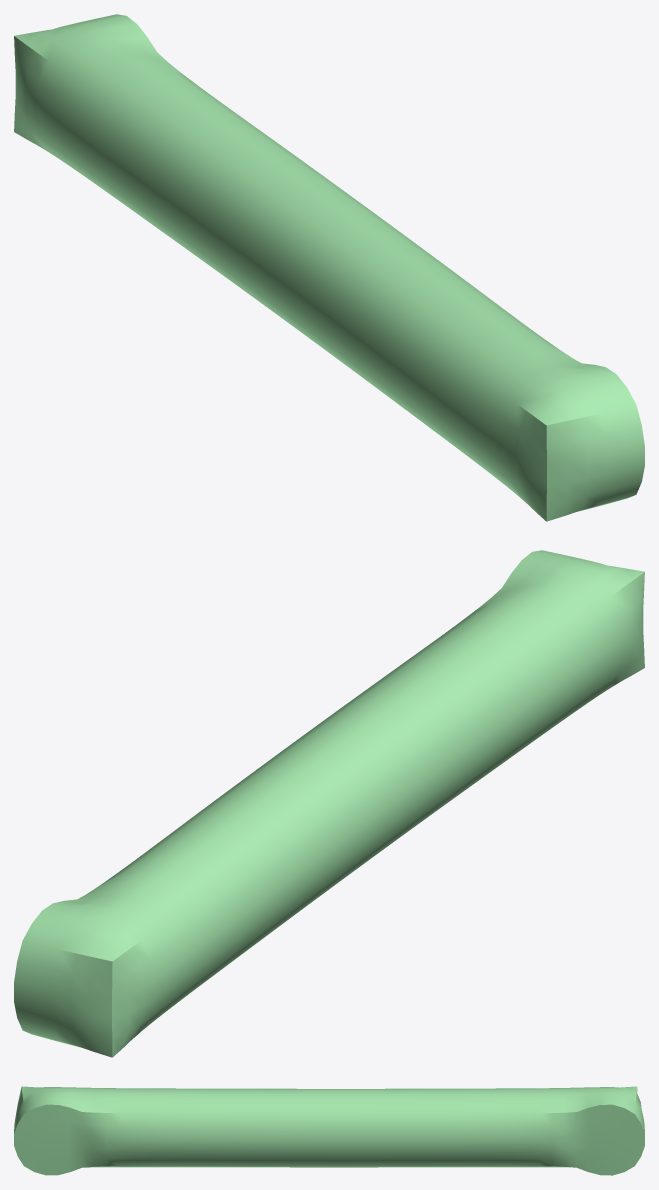
Rendered from FloorEdge.fbx.
The picture shows the model from 3 angles, top to bottom: view 1: azimuth 30°, elevation 25°; view 2: azimuth 150°, elevation 25°; view 3: azimuth 270°, elevation 25°; orthographic projection. The views are drawn at different scales.
Parts seen in each view (by area): view 1: FloorEdge; view 2: FloorEdge; view 3: FloorEdge.
Part boxes in pixels (left/top/right/bottom): FloorEdge: left=14, top=14, right=644, bottom=521; FloorEdge: left=14, top=550, right=644, bottom=1057; FloorEdge: left=14, top=1086, right=644, bottom=1175.
Bounding box in the file's own units: 129 × 131 × 1023.
